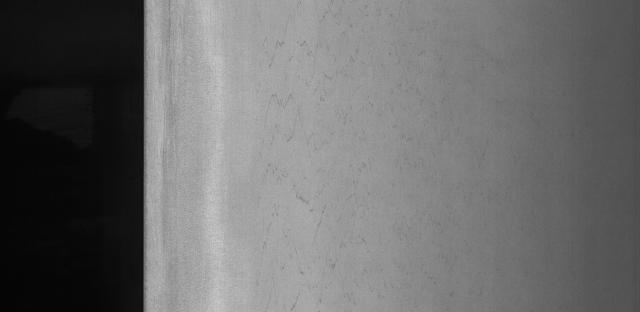silk_spot: (259, 26, 425, 283)
